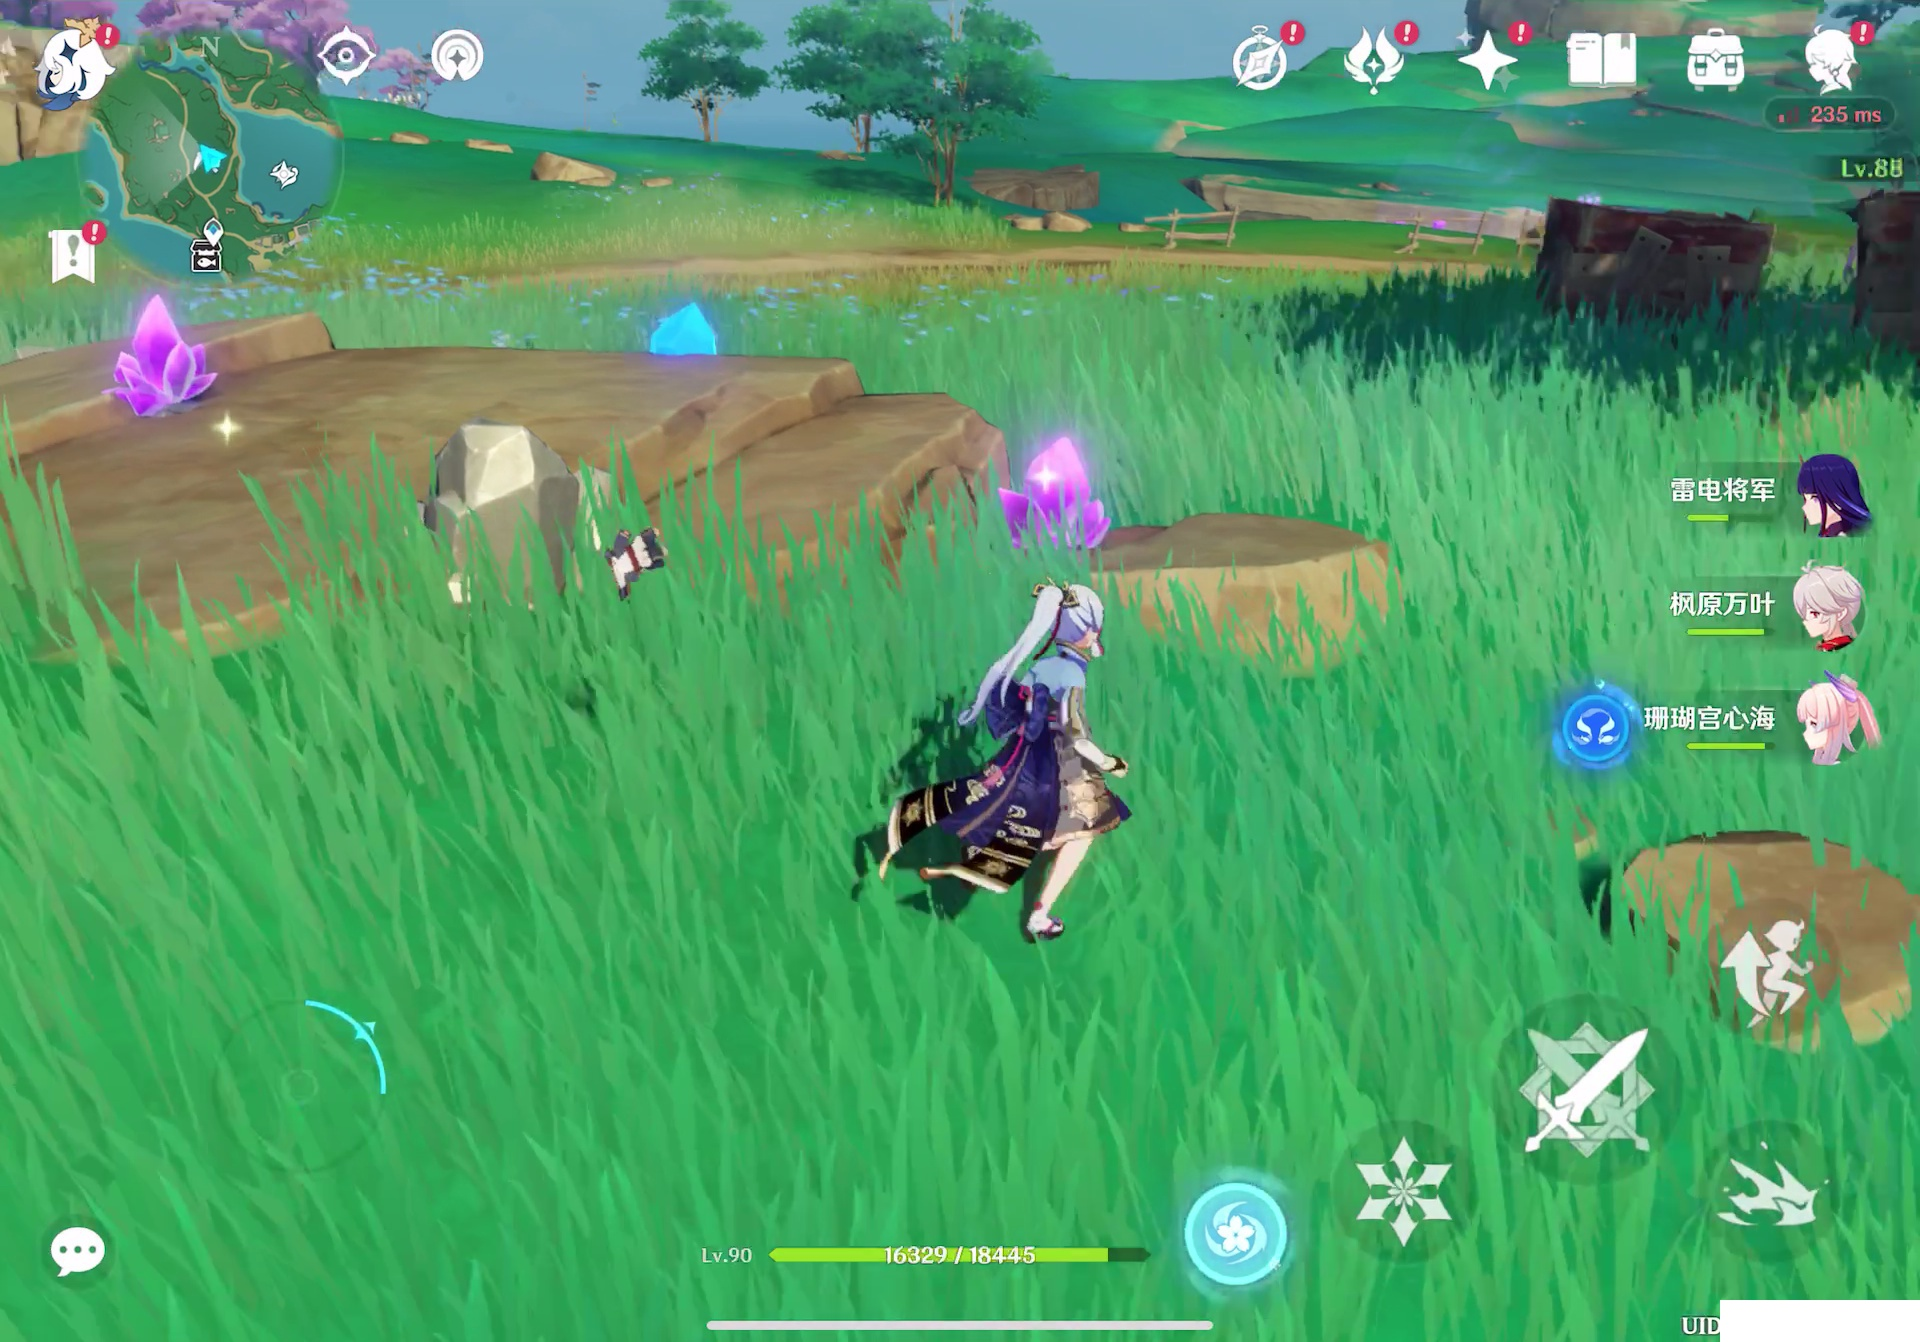白铁矿石: (363, 406, 635, 618)
神里绫龟: (902, 556, 1145, 948)
紫矿石: (101, 300, 252, 462), (988, 441, 1126, 548)
蓝矿石: (649, 305, 740, 360)
